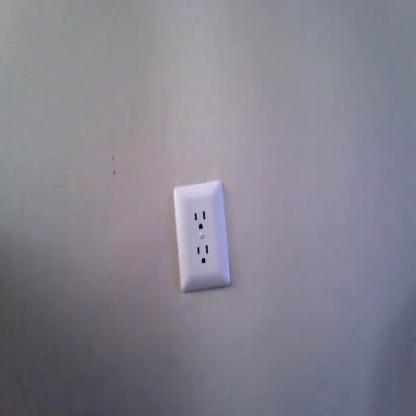OUTLET: (173, 181, 232, 290)
